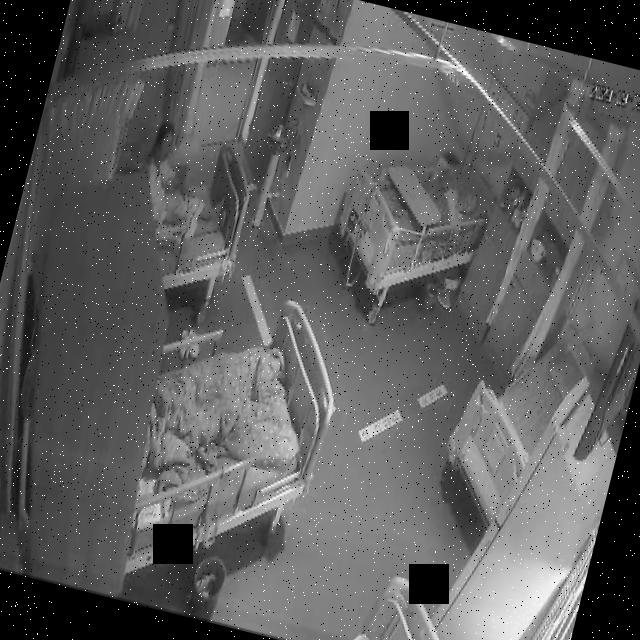bed: (116, 280, 350, 579), (328, 123, 502, 304), (449, 300, 596, 502), (134, 126, 264, 300)
patient: (131, 119, 243, 252), (428, 180, 482, 233)
sit: (132, 118, 246, 252)
